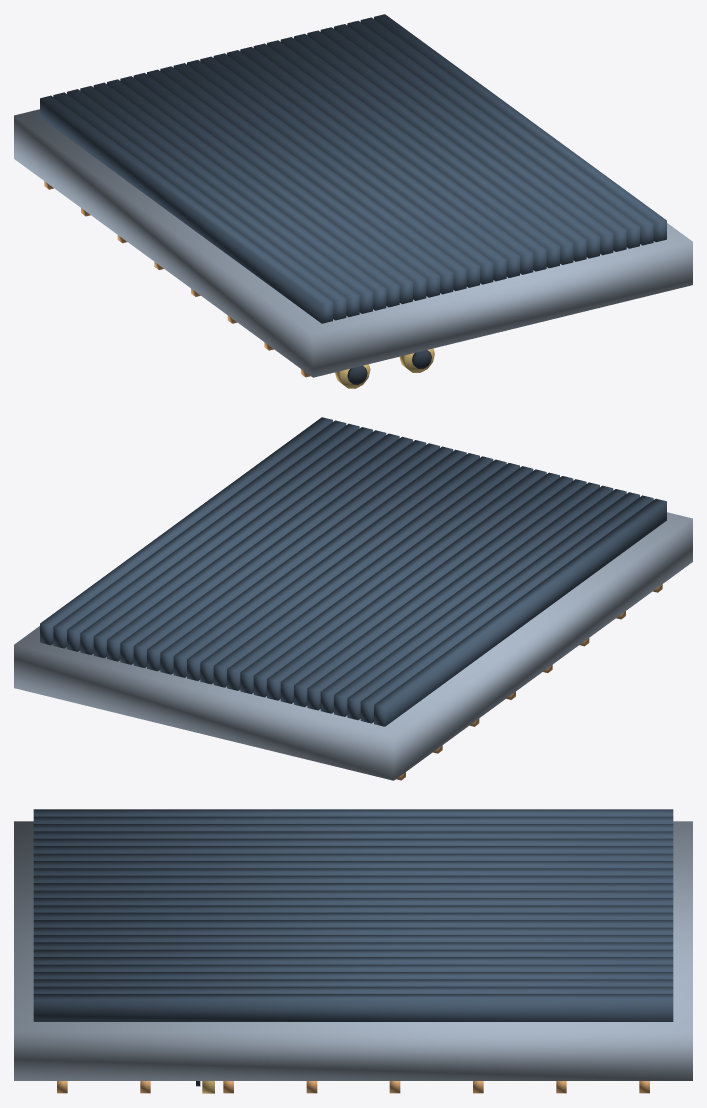
Rendered from 77_L90_ThrusterHeatRejectionRadiator.fbx.
3 views of the same model, one above another, from view 1: azimuth 30°, elevation 25°; view 2: azimuth 150°, elevation 25°; view 3: azimuth 270°, elevation 25° (orthographic). The views are drawn at different scales.
Parts seen in each view (by area): view 1: L90_ThrusterHeatRejectionRadi_Part_0001, L90_ThrusterHeatRejectionRadi_Part_0000, L90_ThrusterHeatRejectionRadi_Part_0002; view 2: L90_ThrusterHeatRejectionRadi_Part_0001, L90_ThrusterHeatRejectionRadi_Part_0000, L90_ThrusterHeatRejectionRadi_Part_0002; view 3: L90_ThrusterHeatRejectionRadi_Part_0001, L90_ThrusterHeatRejectionRadi_Part_0000, L90_ThrusterHeatRejectionRadi_Part_0002, L90_ThrusterHeatRejectionRadi_Part_0003.
Part boxes in pixels (x1,y1,x2,y2): L90_ThrusterHeatRejectionRadi_Part_0001: (40,37,573,323); L90_ThrusterHeatRejectionRadi_Part_0000: (14,109,692,377); L90_ThrusterHeatRejectionRadi_Part_0002: (294,14,666,261); L90_ThrusterHeatRejectionRadi_Part_0001: (133,440,666,726); L90_ThrusterHeatRejectionRadi_Part_0000: (14,512,692,780); L90_ThrusterHeatRejectionRadi_Part_0002: (40,417,412,664); L90_ThrusterHeatRejectionRadi_Part_0001: (33,809,673,949); L90_ThrusterHeatRejectionRadi_Part_0000: (14,821,692,1080); L90_ThrusterHeatRejectionRadi_Part_0002: (33,949,673,1021); L90_ThrusterHeatRejectionRadi_Part_0003: (57,1081,649,1093).
Size of the model in its own units: 1.65 by 0.685 by 2.25.
